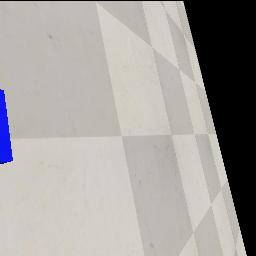box: (0, 89, 14, 164)
